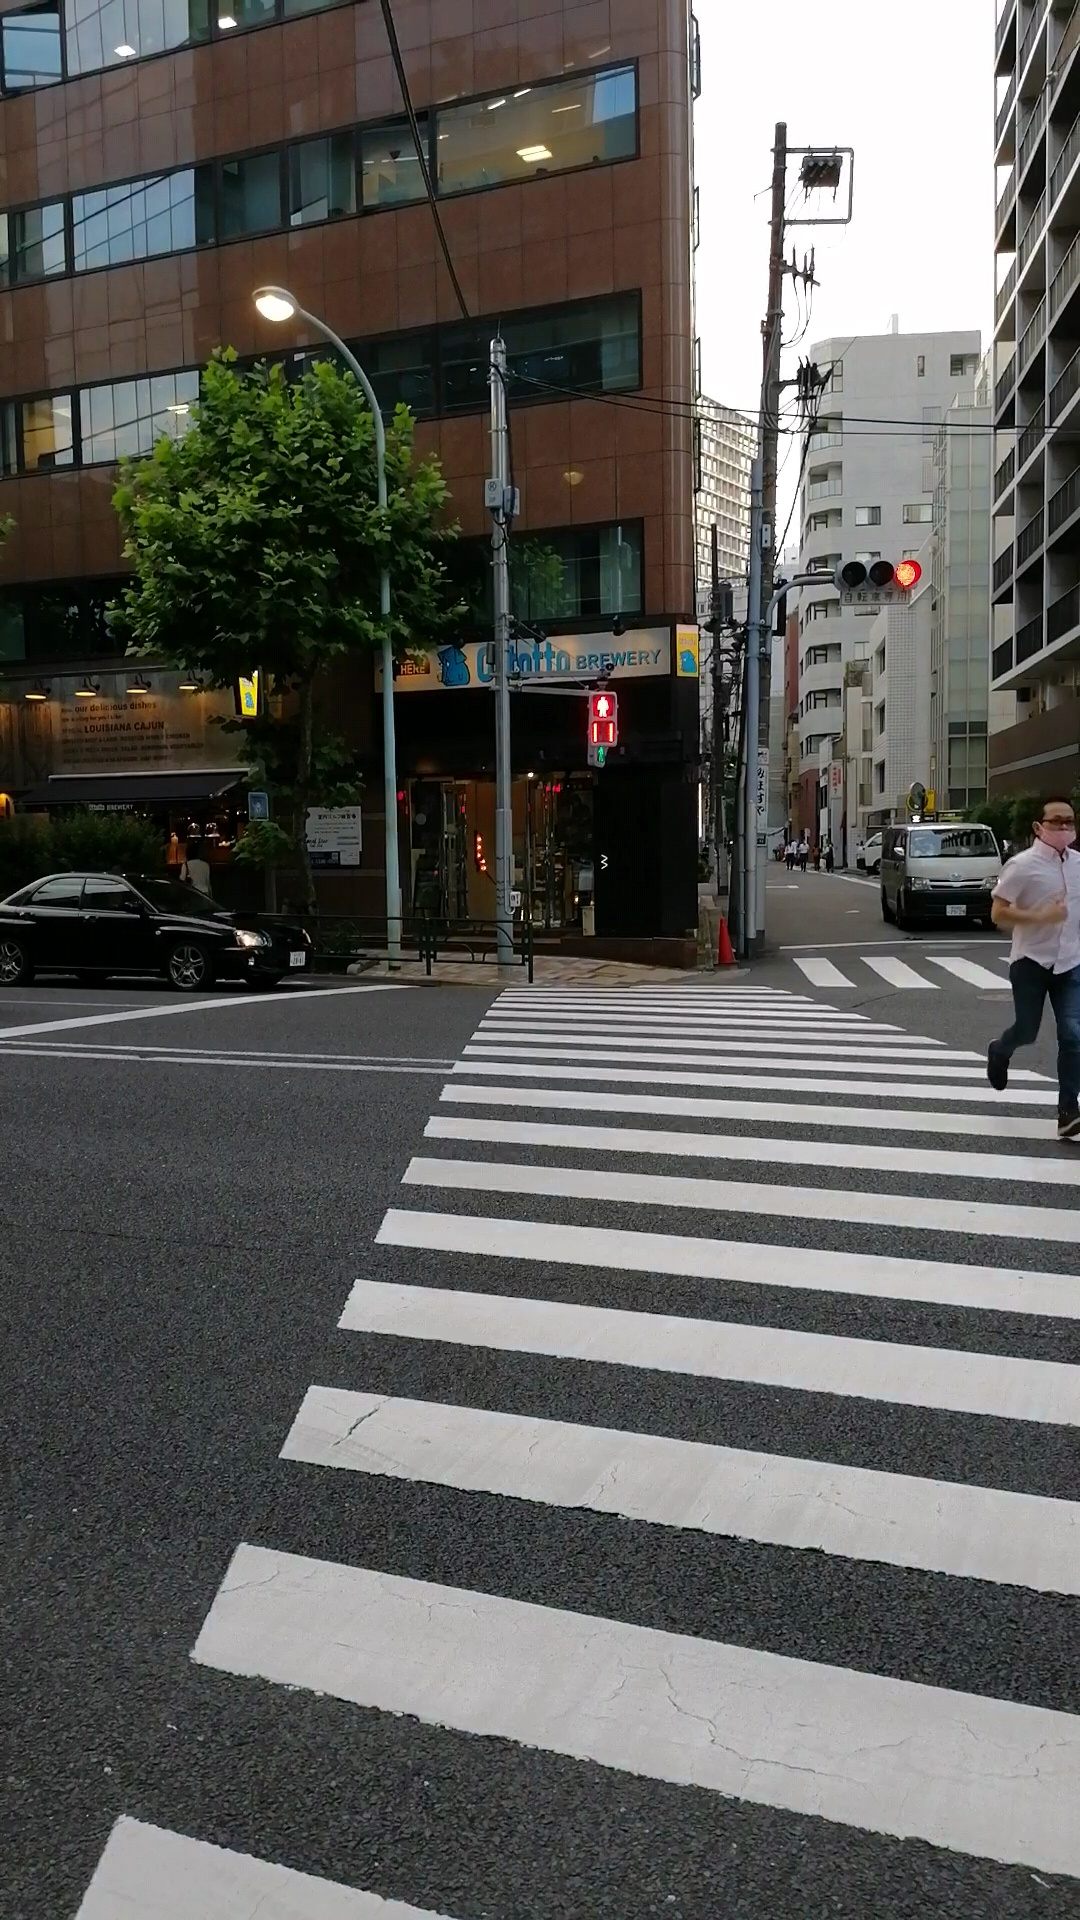red: (585, 690, 618, 746)
